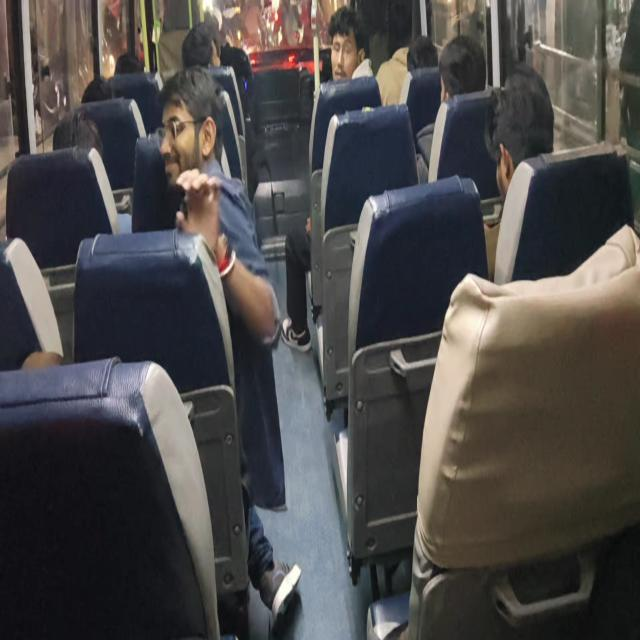person: (142, 76, 238, 186), (488, 87, 568, 209), (316, 23, 359, 74), (188, 38, 230, 86), (428, 54, 460, 108), (55, 108, 95, 150), (379, 39, 410, 90), (77, 67, 108, 115), (121, 47, 142, 82), (405, 46, 425, 71)
